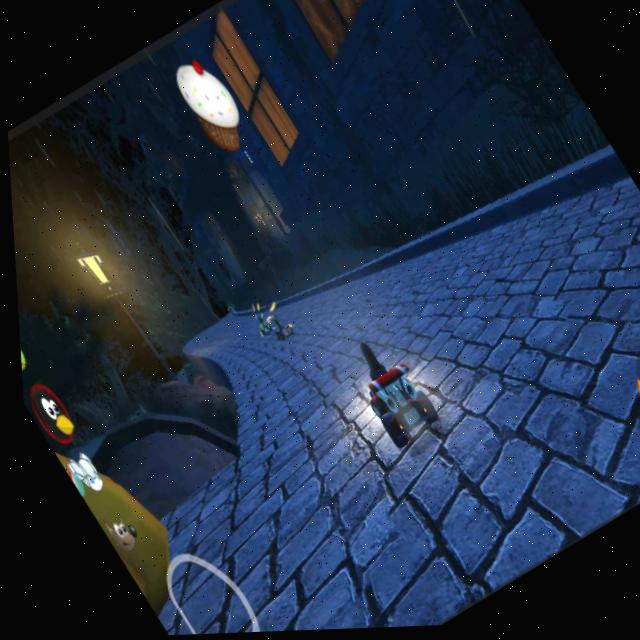enemy_kart: (259, 309, 301, 353), (243, 312, 269, 336)
player_kart: (329, 333, 446, 464)
track: (185, 304, 255, 364)
